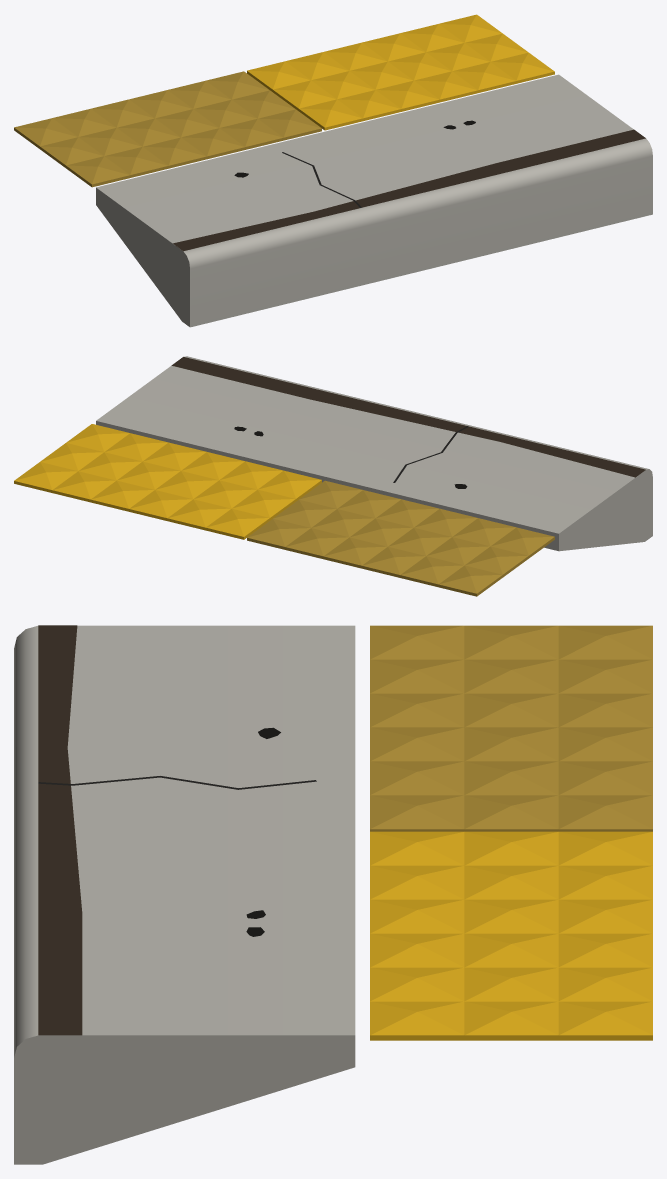
The model's file is platform_edge@1.glb.
The picture shows the model from 3 angles, top to bottom: view 1: azimuth 30°, elevation 25°; view 2: azimuth 150°, elevation 25°; view 3: azimuth 270°, elevation 25°; orthographic projection. The views are drawn at different scales.
Visible parts, largest first — view 1: kantenstein, noppen0, noppen1, kante_abrieb; view 2: kantenstein, noppen0, noppen1, kante_abrieb; view 3: kantenstein, noppen1, noppen0, kante_abrieb.
Boxes of the visible parts, x1=… form: kantenstein: x1=96, y1=74, x2=652, y2=327; noppen0: x1=14, y1=71, x2=321, y2=187; noppen1: x1=247, y1=14, x2=554, y2=130; kante_abrieb: x1=173, y1=129, x2=645, y2=251; kantenstein: x1=96, y1=356, x2=652, y2=551; noppen0: x1=247, y1=480, x2=554, y2=596; noppen1: x1=14, y1=424, x2=321, y2=539; kante_abrieb: x1=171, y1=357, x2=645, y2=477; kantenstein: x1=14, y1=625, x2=355, y2=1164; noppen1: x1=370, y1=831, x2=652, y2=1040; noppen0: x1=370, y1=625, x2=652, y2=831; kante_abrieb: x1=38, y1=625, x2=82, y2=1035.
Bounding box in the file's own units: 0.994 × 0.1535 × 0.655.
